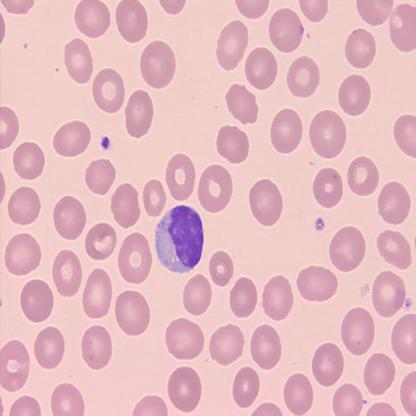Lymphocyte: (153, 204, 204, 274)
